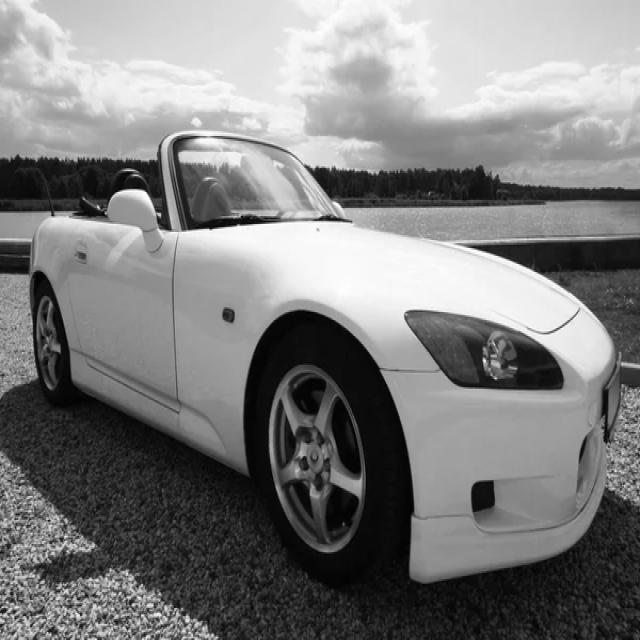Car: (29, 131, 621, 585)
